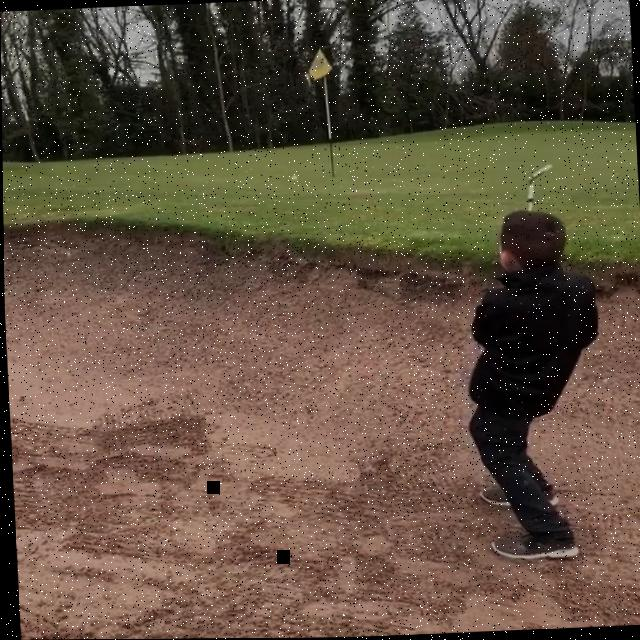ClubHead: (526, 164, 553, 180)
GolfBall: (290, 175, 297, 180)
